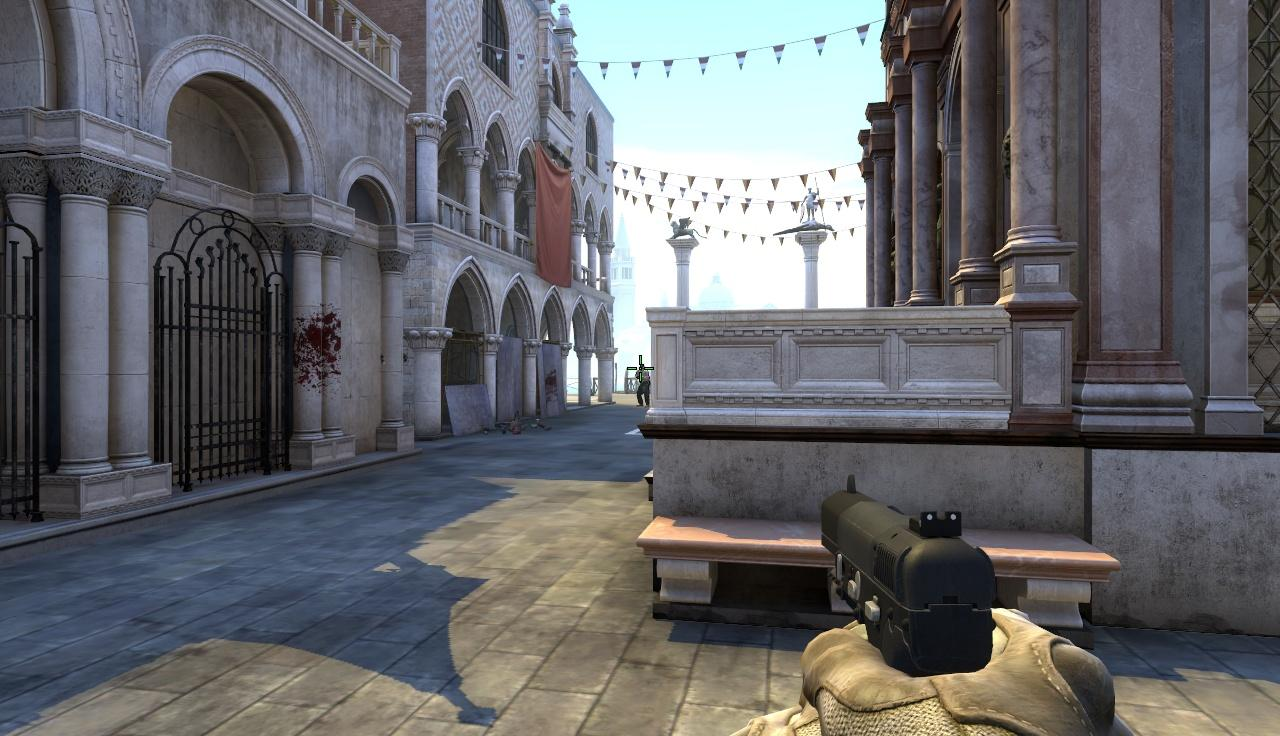pistol: (820, 475, 1097, 736)
tt: (637, 364, 650, 406)
